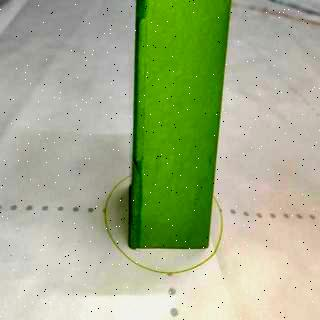greenbox: (134, 0, 229, 250)
